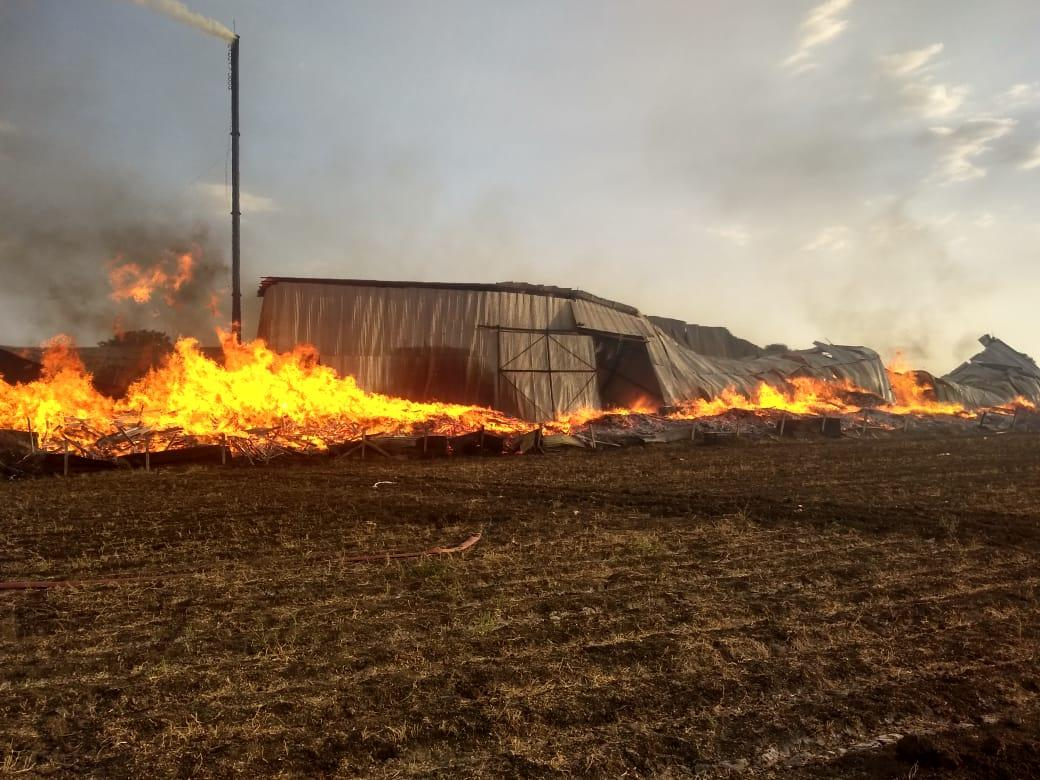fire: (0, 335, 536, 454), (609, 378, 878, 422), (888, 372, 955, 412), (546, 410, 609, 432)
